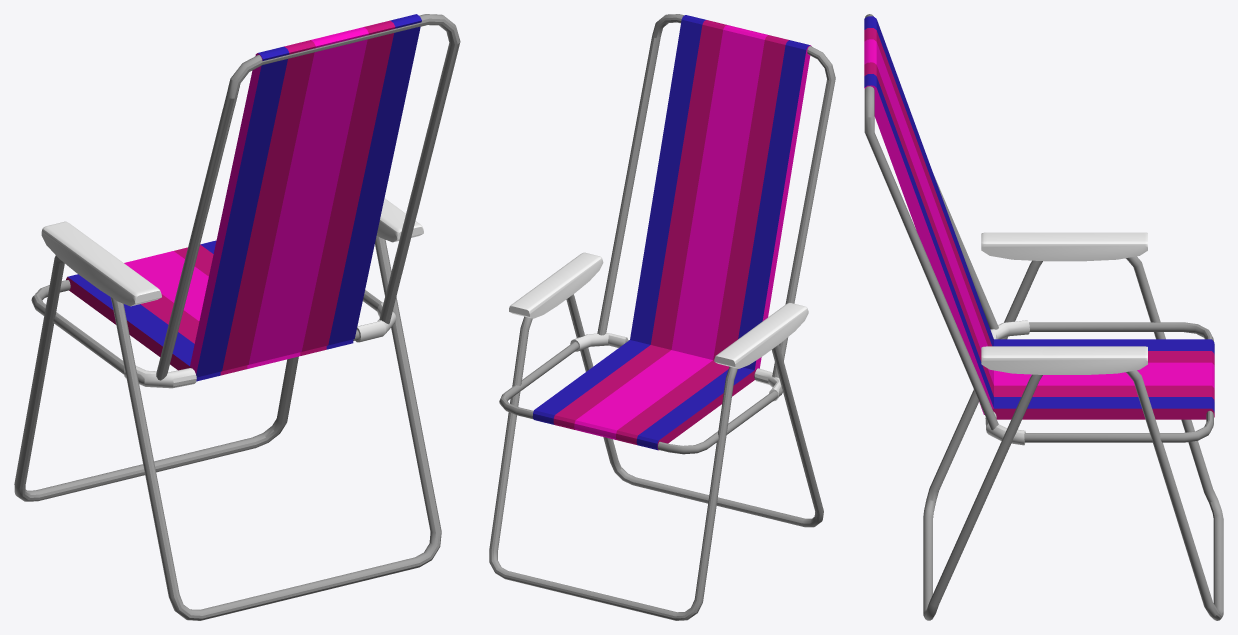
Rendered from cadeira2.fbx.
3 renders of one model, left to right at view 1: azimuth 30°, elevation 25°; view 2: azimuth 150°, elevation 25°; view 3: azimuth 270°, elevation 25°, orthographic. The views are drawn at different scales.
Parts seen in each view (by area): view 1: Cube.006; view 2: Cube.006; view 3: Cube.006.
Boxes of the visible parts, bbox=[...] form: Cube.006: bbox=[14, 14, 460, 620]; Cube.006: bbox=[489, 14, 835, 620]; Cube.006: bbox=[864, 14, 1223, 620].
Size of the model in its own units: 118 by 228 by 143.
4 materials, 4 textured.
